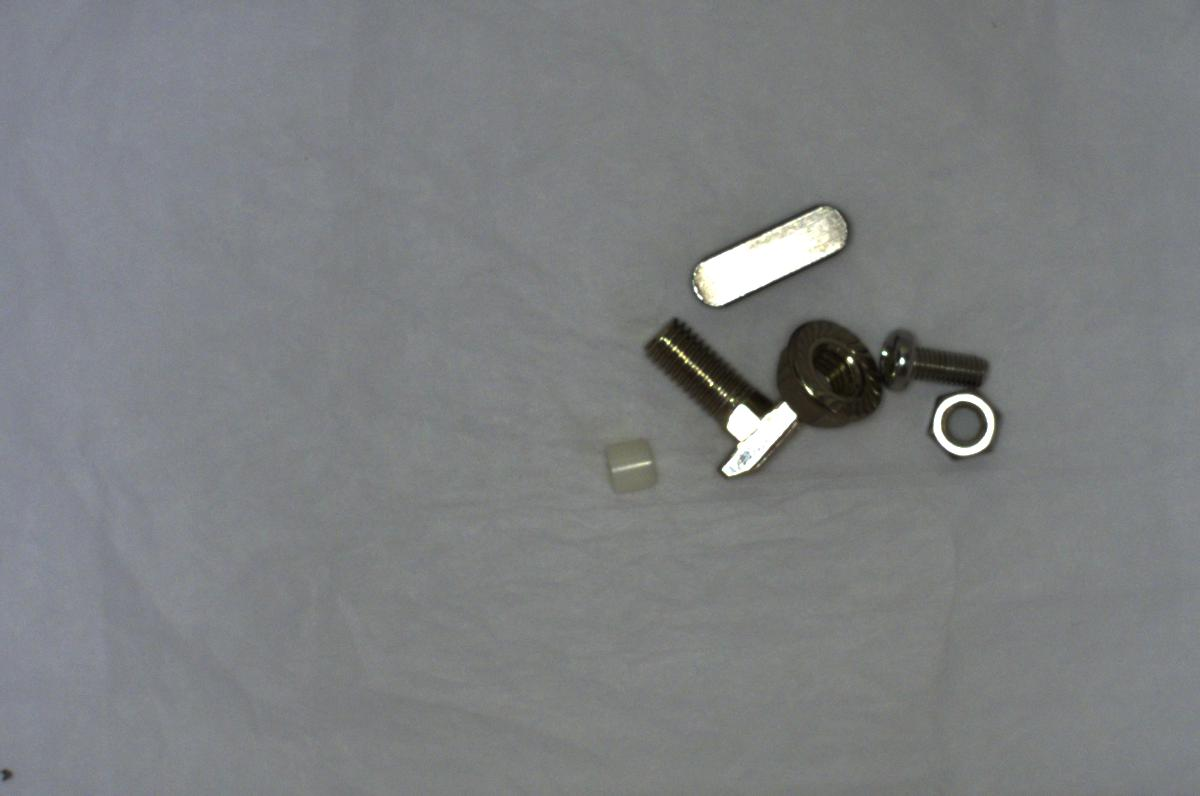Flange nut: (766, 317, 888, 435)
Hexagon nut: (914, 385, 1012, 471)
Keybar: (669, 194, 856, 309)
Plastic cushion pillar: (591, 430, 664, 499)
Round head screw: (875, 322, 992, 391)
T-shaped screw: (642, 313, 810, 477)
